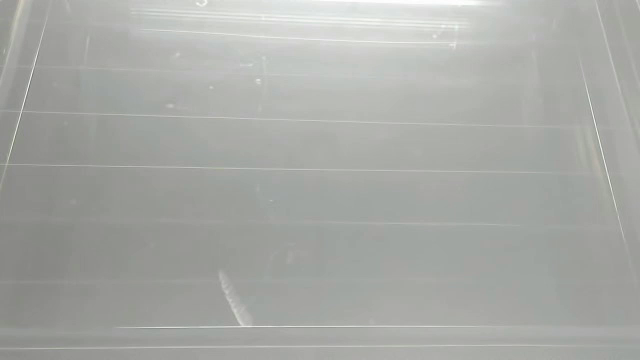alpha: (216, 268, 259, 330)
